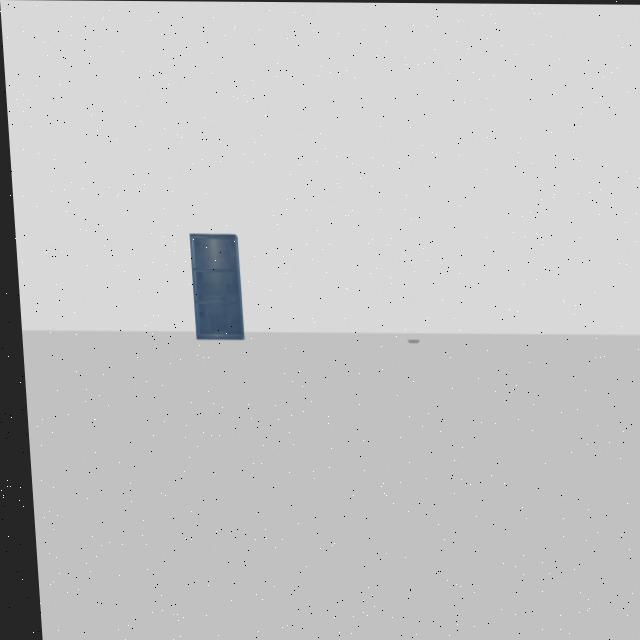bowl: (397, 335, 421, 348)
shelf: (179, 225, 252, 350)
